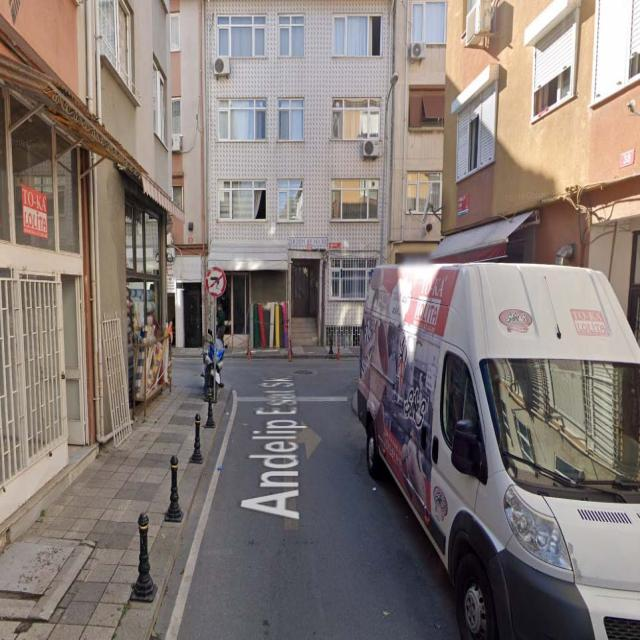soladonulmez: (206, 267, 226, 296)
